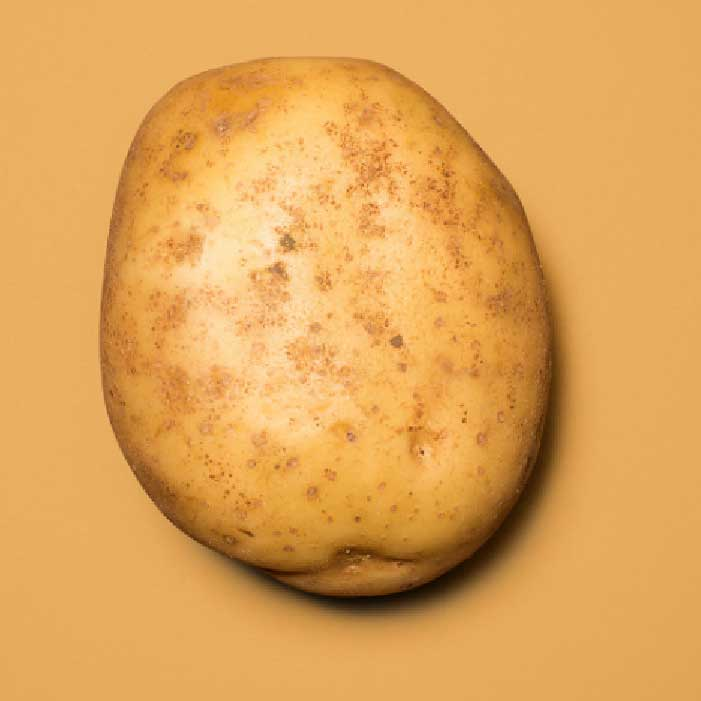Kartoffel: (100, 57, 552, 595)
